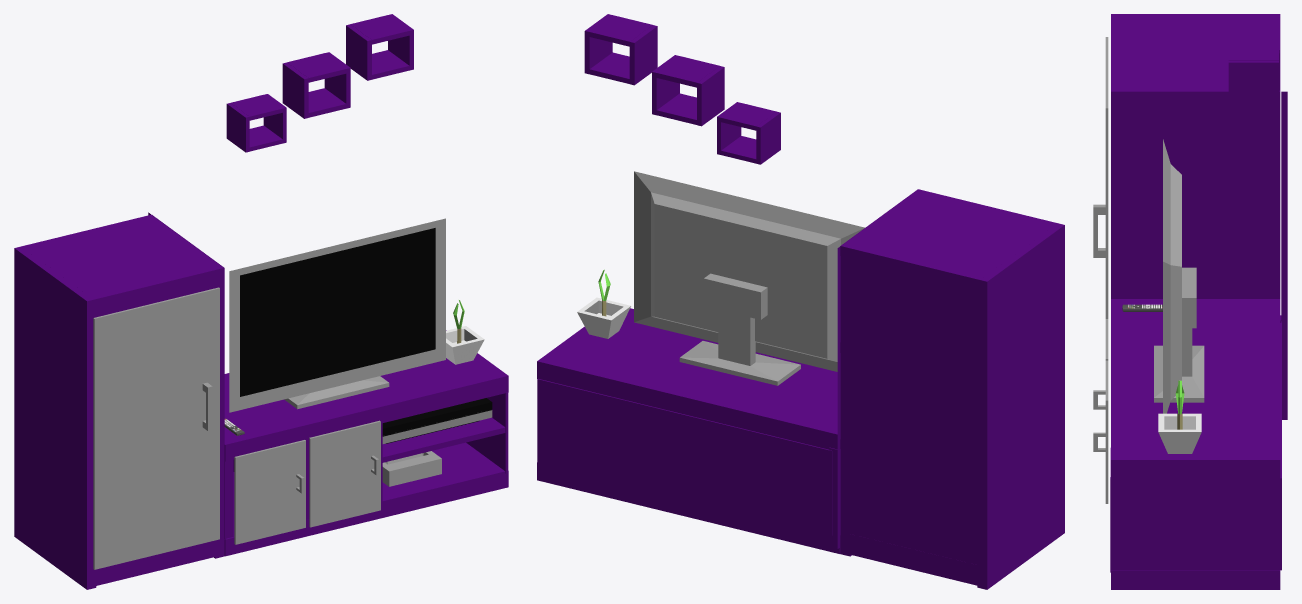
3 views of the same model, side by side, from view 1: azimuth 30°, elevation 25°; view 2: azimuth 150°, elevation 25°; view 3: azimuth 270°, elevation 25° (orthographic). The views are drawn at different scales.
Parts seen in each view (by area): view 1: furniture_xena:tablon_estante_superior, TV1, tobira3, tobira2, tobira1, furniture_xena:sup_caja_med002, furniture_xena:sup_caja_grande003, furniture_xena:sup_caja_peqe001, bideo, thisyu, ueki; view 2: furniture_xena:tablon_estante_superior, TV1, furniture_xena:sup_caja_grande003, furniture_xena:sup_caja_med002, furniture_xena:sup_caja_peqe001, ueki; view 3: furniture_xena:tablon_estante_superior, TV1, furniture_xena:sup_caja_grande003, ueki, tobira3, tobira2, furniture_xena:sup_caja_med002, tobira1, rimokonTV.
Boxes of the visible parts, <box> form: furniture_xena:tablon_estante_superior: <box>14,212,508,589</box>; TV1: <box>229,218,445,412</box>; tobira3: <box>93,287,219,569</box>; tobira2: <box>309,420,380,527</box>; tobira1: <box>234,440,305,544</box>; furniture_xena:sup_caja_med002: <box>282,52,350,118</box>; furniture_xena:sup_caja_grande003: <box>346,14,413,80</box>; furniture_xena:sup_caja_peqe001: <box>226,94,286,152</box>; bideo: <box>382,398,492,443</box>; thisyu: <box>382,451,441,486</box>; ueki: <box>446,300,484,364</box>; furniture_xena:tablon_estante_superior: <box>537,189,1064,589</box>; TV1: <box>634,171,864,385</box>; furniture_xena:sup_caja_grande003: <box>584,14,657,85</box>; furniture_xena:sup_caja_med002: <box>652,55,724,126</box>; furniture_xena:sup_caja_peqe001: <box>717,102,780,164</box>; ueki: <box>577,269,630,338</box>; furniture_xena:tablon_estante_superior: <box>1110,14,1287,589</box>; TV1: <box>1154,139,1204,413</box>; furniture_xena:sup_caja_grande003: <box>1228,36,1278,108</box>; ueki: <box>1158,380,1201,453</box>; tobira3: <box>1093,37,1108,318</box>; tobira2: <box>1093,360,1108,503</box>; furniture_xena:sup_caja_med002: <box>1229,27,1279,99</box>; tobira1: <box>1093,319,1108,409</box>; rimokonTV: <box>1122,304,1162,311</box>.
Size of the model in its own units: 275 by 269 by 94.08.
